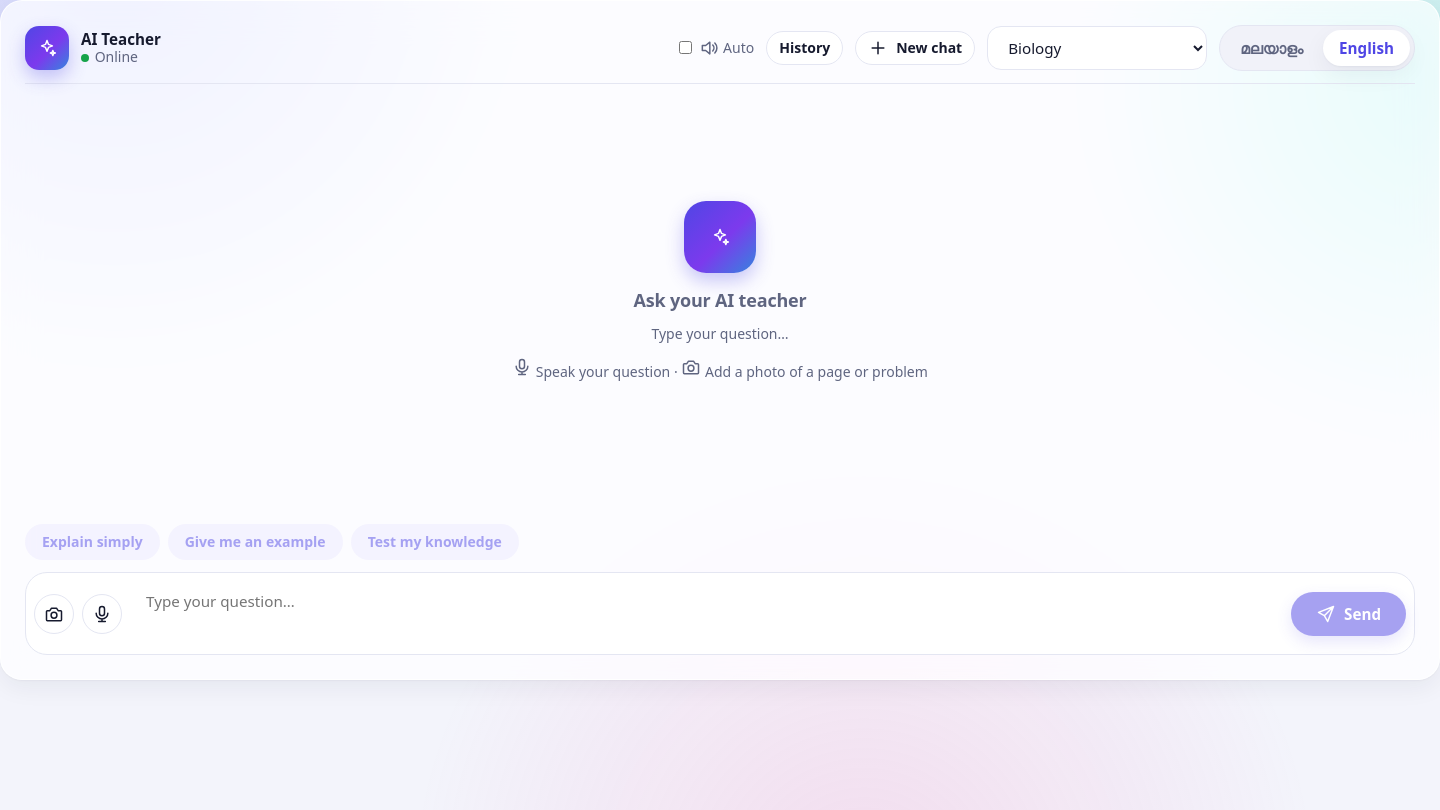
Test: AI Teacher conversations › continues the saved chat with its id and shows a wellbeing reply without source labels
This screenshot has width=1440, height=810.
Later steps or results of the test are not shown.
In the text box labelled "Type your question…": point(707, 614) [130,581,1283,646], type "What is photosynthesis?"
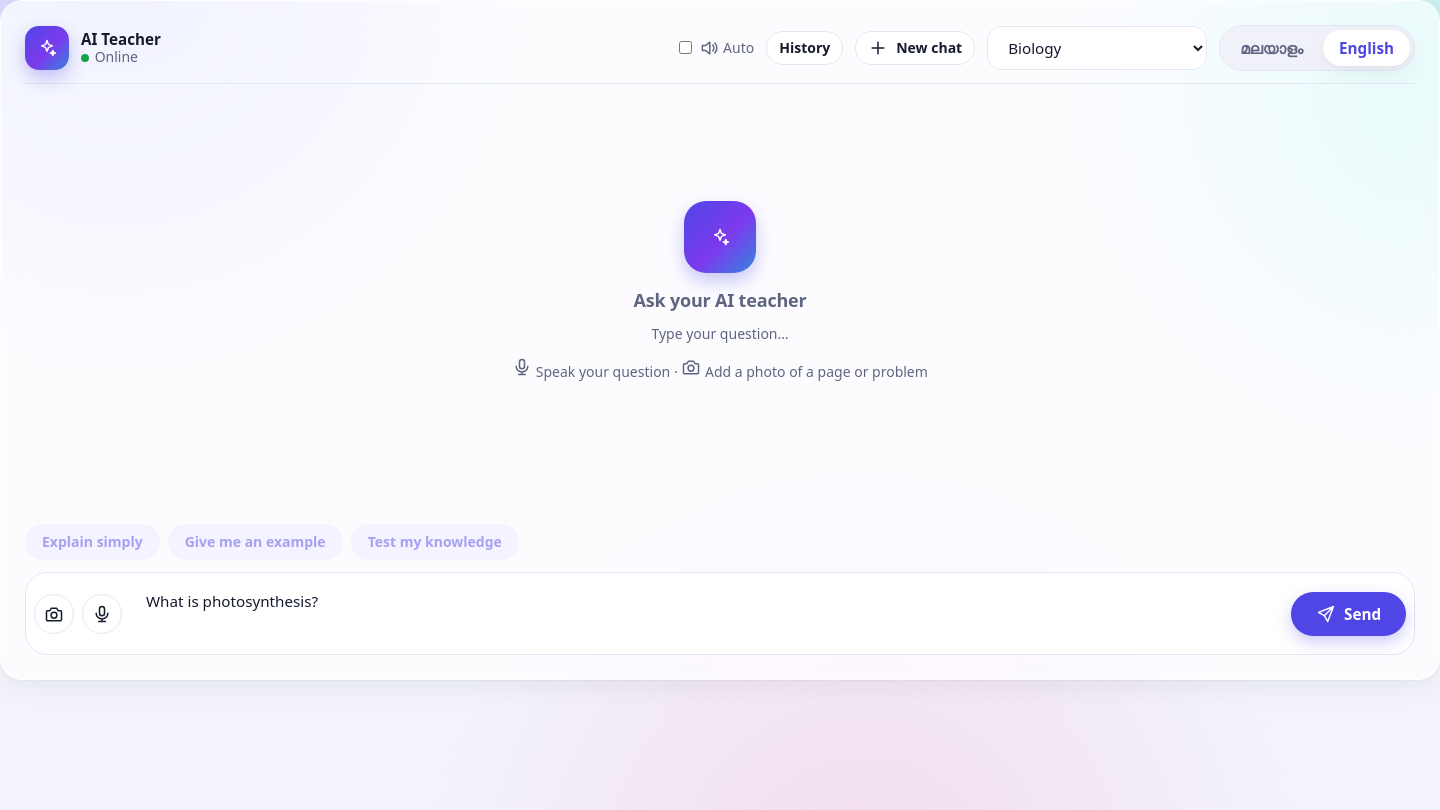
Click the button "Send": point(1349, 614) [1291,592,1406,636]
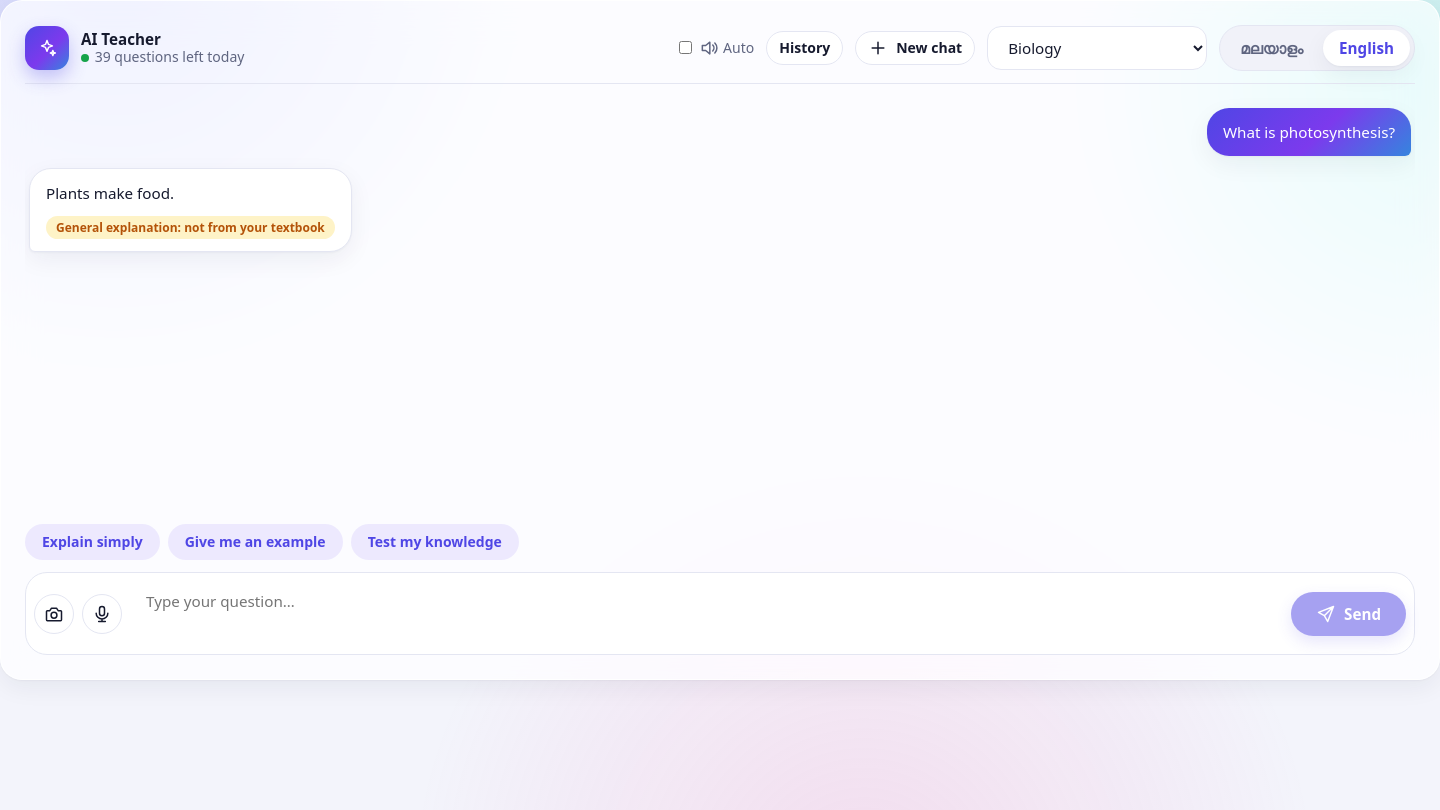
Expected: the text "Plants make food." is shown, [46,183,174,203]
